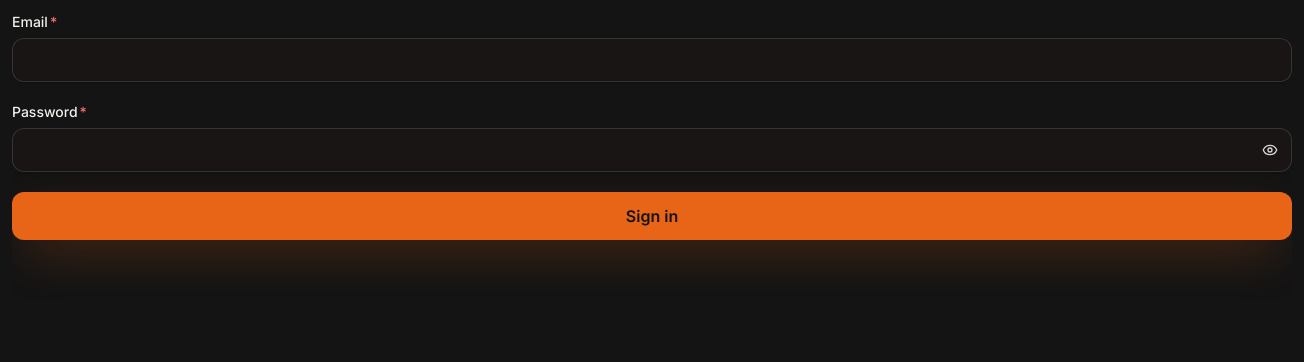
Test: AdminLoginForm › shows one generic message for a 401 from sign-in
Step 1. Type "someone@example.com" into the field labelled "Email*" → (652, 60), box [12,38,1292,82]
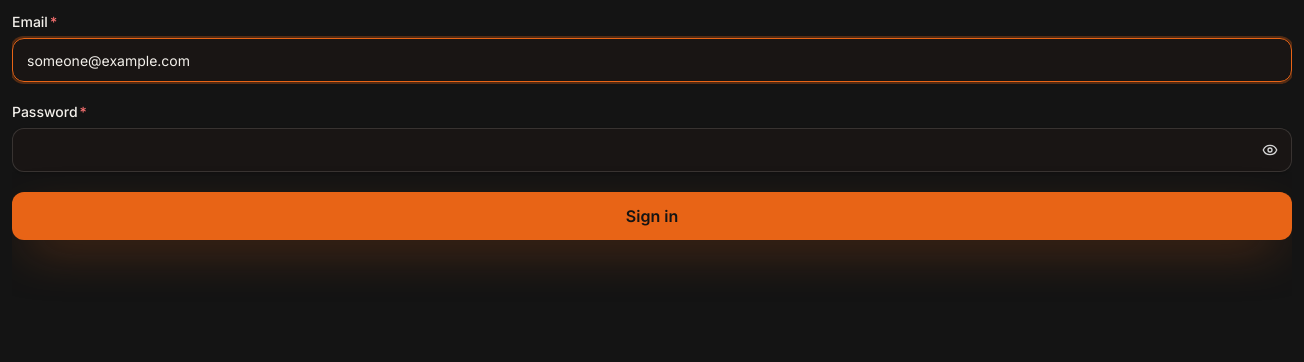
Step 2. Type "a-password" into the password field labelled "Password*" → (652, 150), box [12,128,1292,172]
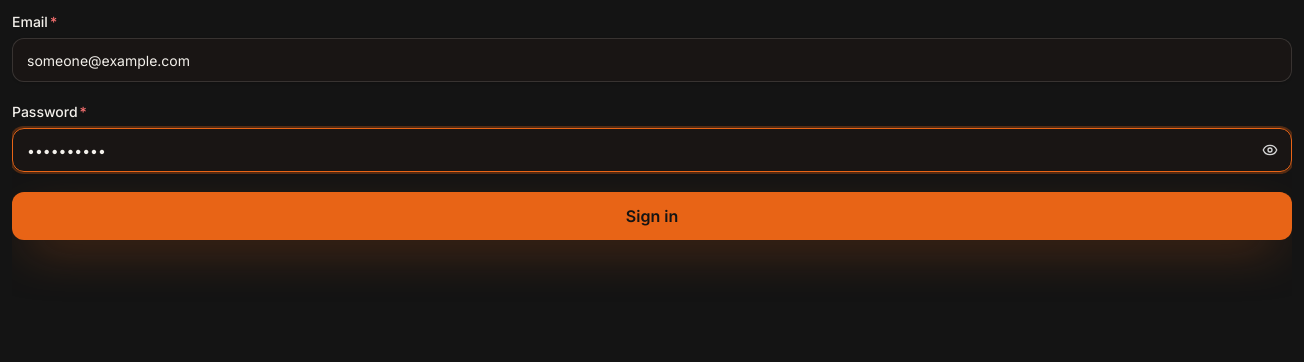
Step 3. Click the button "Sign in" → (652, 216), box [12,192,1292,240]
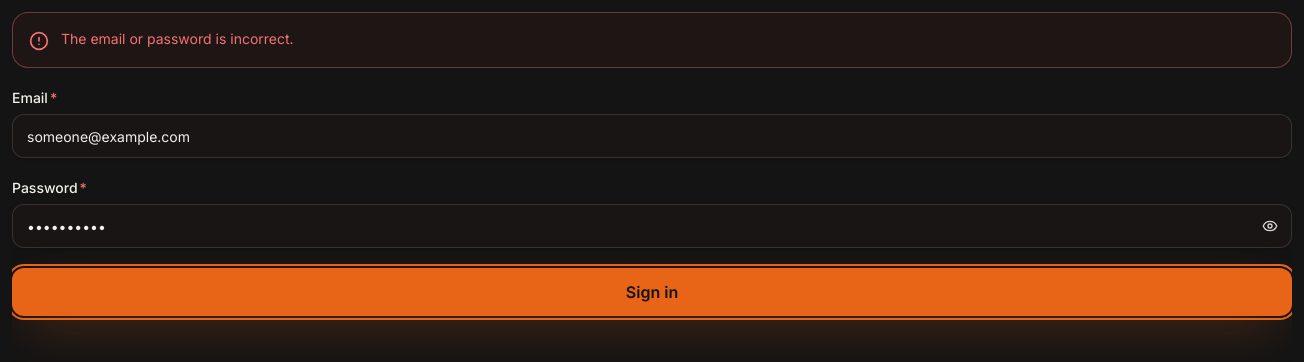
Expected: the message reads "The email or password is incorrect.", [61,30,294,47]
